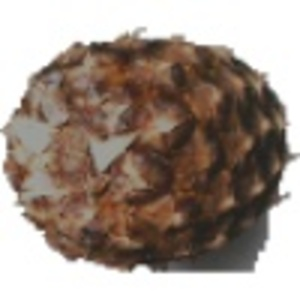abacaxi: (2, 43, 289, 271)
